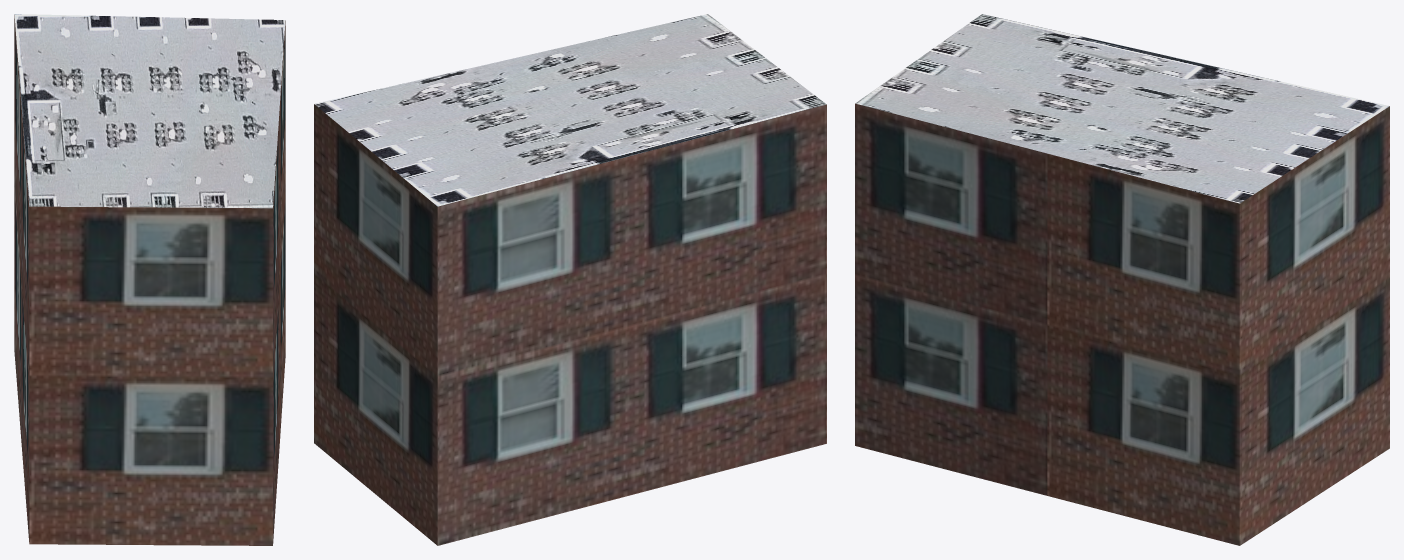
The model's file is ResTex__719.fbx.
The picture shows the model from 3 angles, left to right: view 1: azimuth 30°, elevation 25°; view 2: azimuth 150°, elevation 25°; view 3: azimuth 270°, elevation 25°; orthographic projection.
Parts seen in each view (by area): view 1: CityEngineMaterial_14_m, CityEngineMaterial_m; view 2: CityEngineMaterial_14_m, CityEngineMaterial_m; view 3: CityEngineMaterial_14_m, CityEngineMaterial_m.
Part boxes in pixels (box(x1,y1,x2,y2)): CityEngineMaterial_14_m: box(14, 15, 285, 545); CityEngineMaterial_m: box(14, 14, 285, 208); CityEngineMaterial_14_m: box(314, 104, 826, 545); CityEngineMaterial_m: box(314, 14, 826, 206); CityEngineMaterial_14_m: box(855, 103, 1389, 545); CityEngineMaterial_m: box(855, 14, 1389, 203).
Size of the model in its own units: 7.13 by 6 by 8.49.
2 materials, 2 textured.
